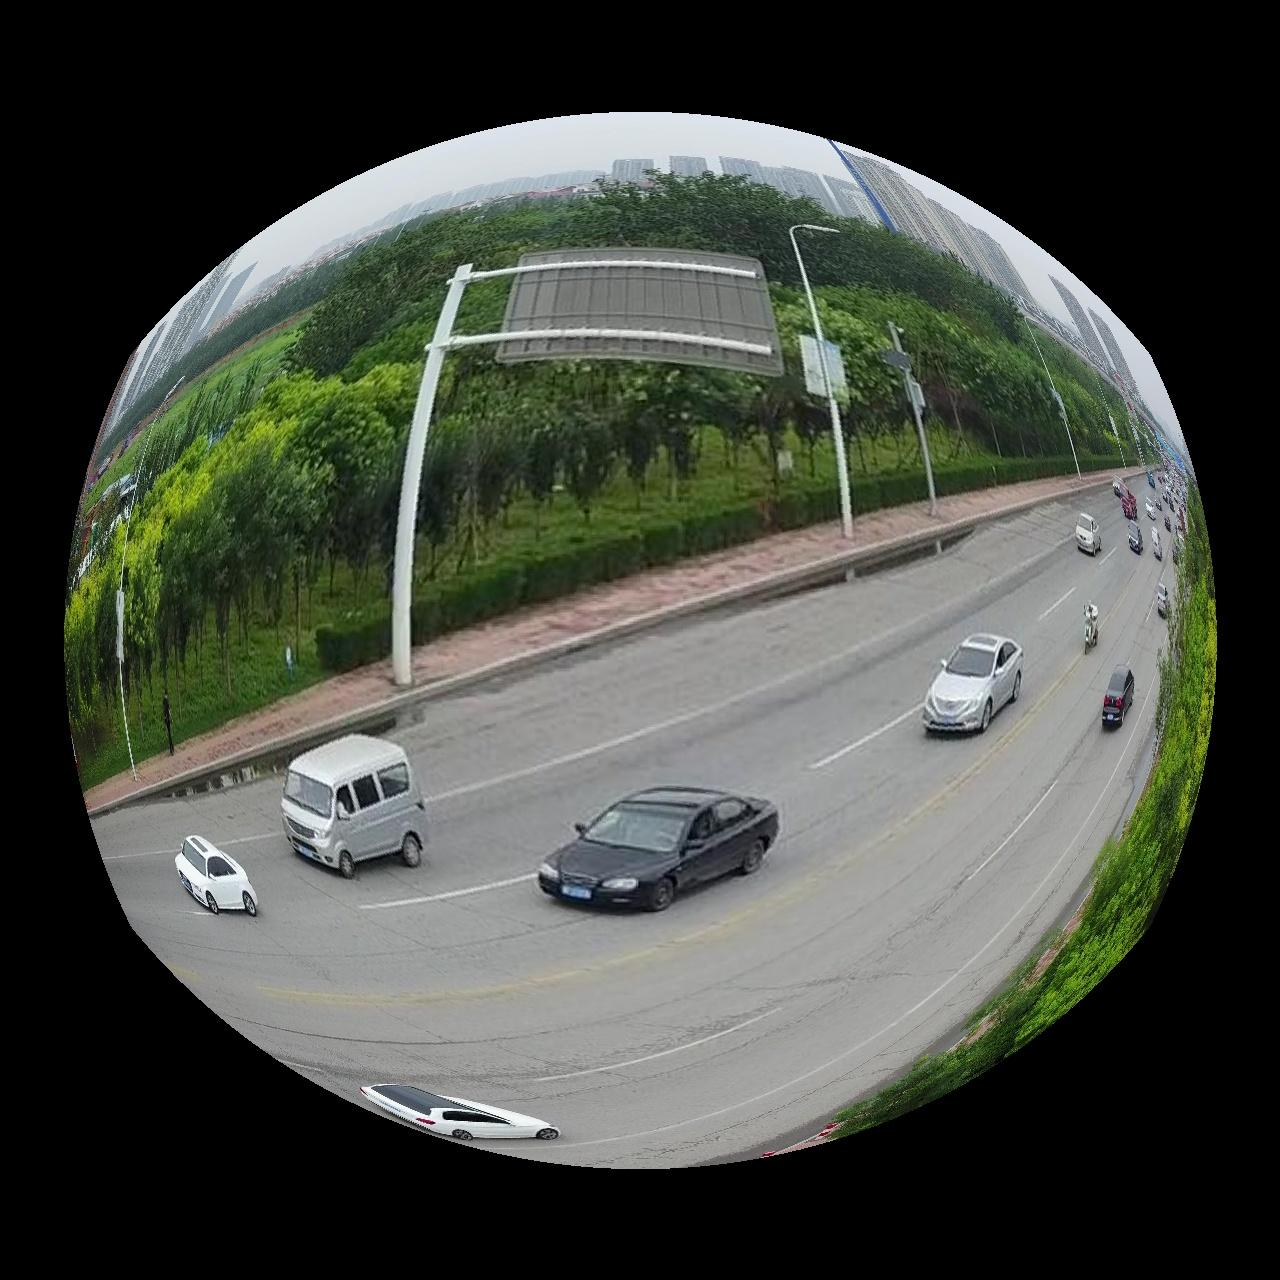cars: (539, 788, 779, 912), (281, 735, 425, 878), (360, 1085, 560, 1144), (924, 633, 1026, 734), (173, 838, 257, 918), (1104, 665, 1138, 729), (1076, 512, 1104, 556), (1085, 602, 1102, 654)
trees: (66, 159, 839, 775), (817, 484, 1219, 1143), (809, 181, 1062, 504)
